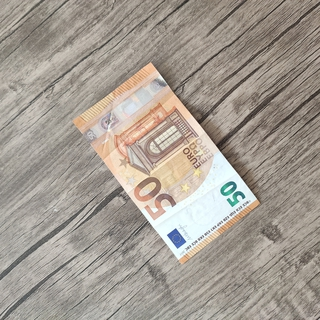50EUROFront: (70, 60, 263, 266)
